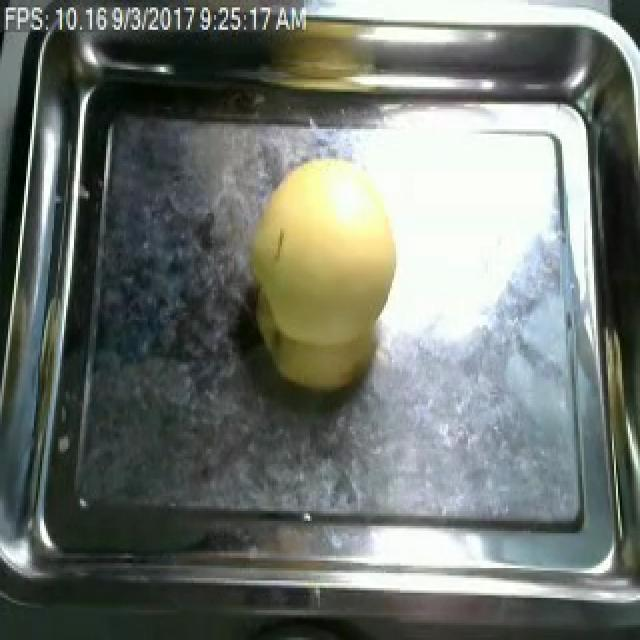Fruit: (234, 144, 410, 399)
